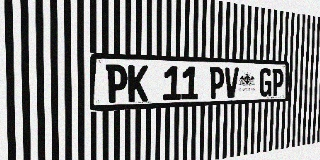1: (163, 66, 181, 101), (181, 66, 198, 100)
G: (259, 68, 272, 97)
K: (128, 65, 148, 102)
P: (106, 64, 127, 103), (209, 67, 224, 99), (271, 68, 284, 96)
V: (224, 67, 239, 98)
